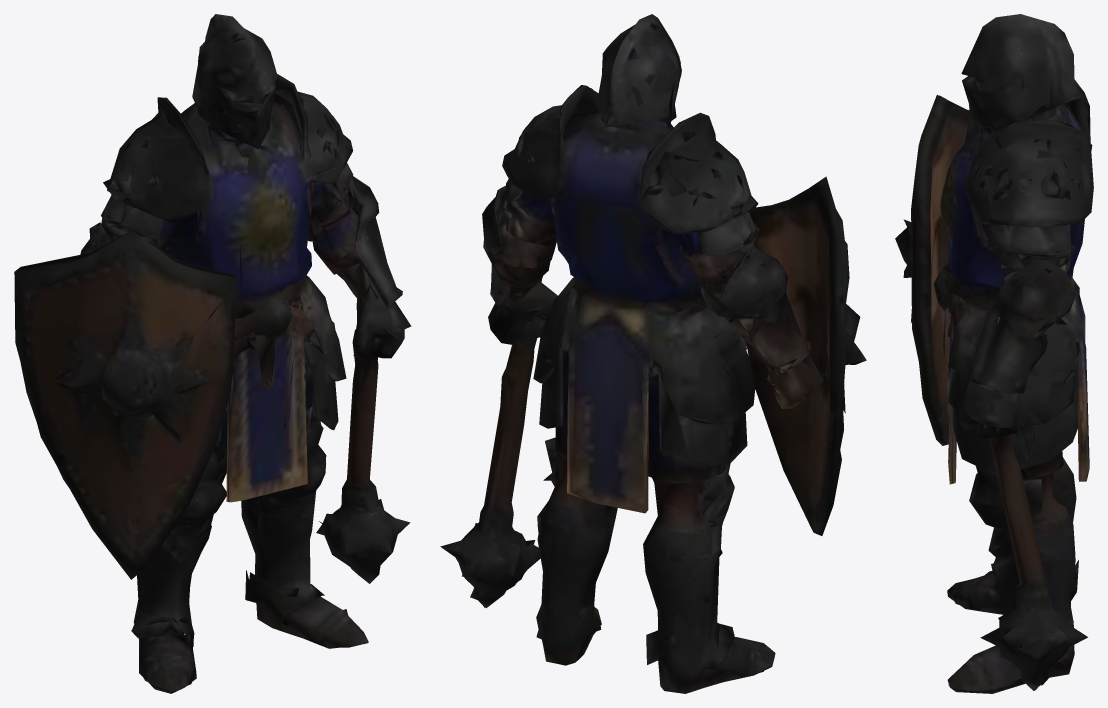
File: detail_5_lo.glb
3 views of the same model, side by side, from view 1: azimuth 30°, elevation 25°; view 2: azimuth 150°, elevation 25°; view 3: azimuth 270°, elevation 25° (orthographic). The views are drawn at different scales.
Visible parts, largest first — view 1: Mesh_0.001; view 2: Mesh_0.001; view 3: Mesh_0.001.
Part boxes in pixels (bbox=[...]): Mesh_0.001: bbox=[14, 14, 411, 693]; Mesh_0.001: bbox=[440, 14, 866, 693]; Mesh_0.001: bbox=[895, 14, 1093, 693].
Size of the model in its own units: 0.6388 by 0.9931 by 0.2848.
1 material, 1 textured.
